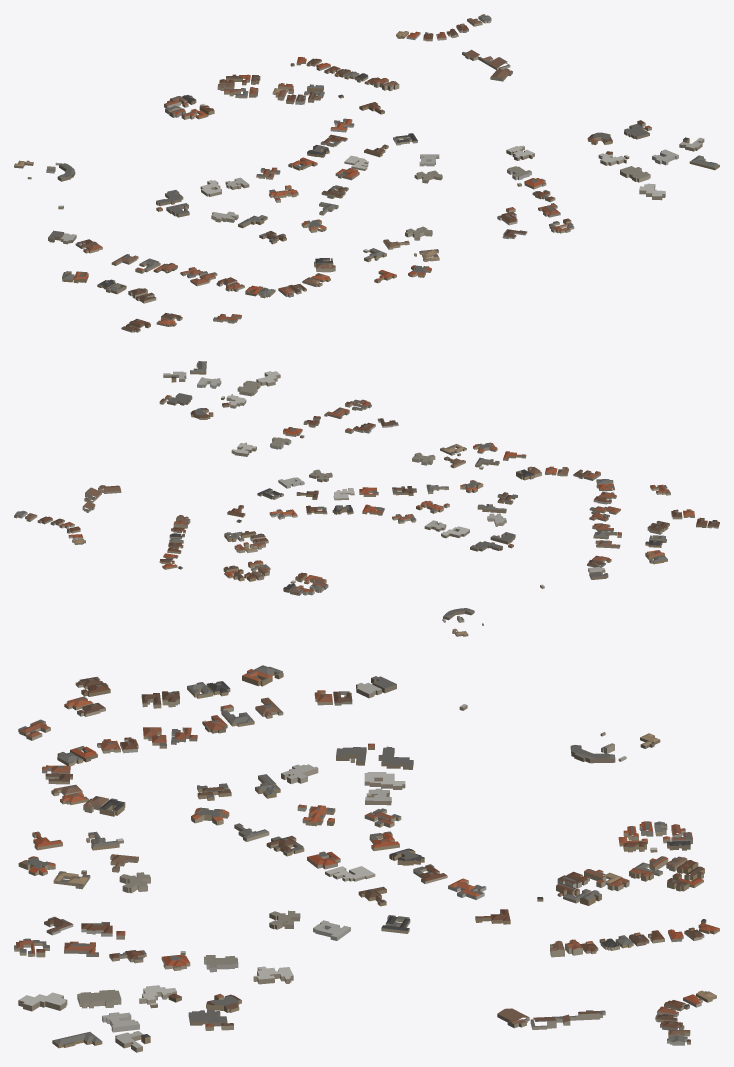
3 renders of one model, top to bottom at view 1: azimuth 30°, elevation 25°; view 2: azimuth 150°, elevation 25°; view 3: azimuth 270°, elevation 25°, orthographic. The views are drawn at different scales.
Parts seen in each view (by area): view 1: buildings_r7_c1_lod1; view 2: buildings_r7_c1_lod1; view 3: buildings_r7_c1_lod1.
Boxes of the visible parts, x1,y1,x2,y2 form: buildings_r7_c1_lod1: [14, 14, 719, 332]; buildings_r7_c1_lod1: [14, 361, 719, 636]; buildings_r7_c1_lod1: [14, 665, 719, 1052].
Bounding box in the file's own units: 1149 × 68.34 × 814.
